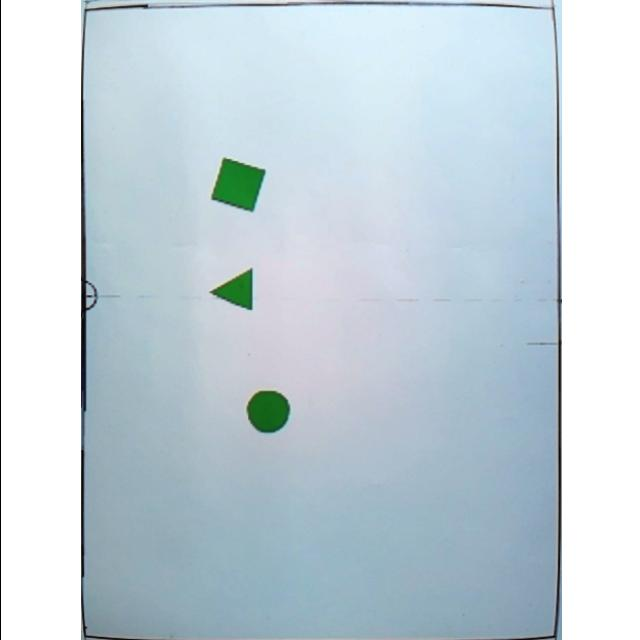greenCircle: (241, 388, 287, 434)
greenSquare: (208, 158, 264, 214)
greenTriangle: (205, 266, 252, 314)
